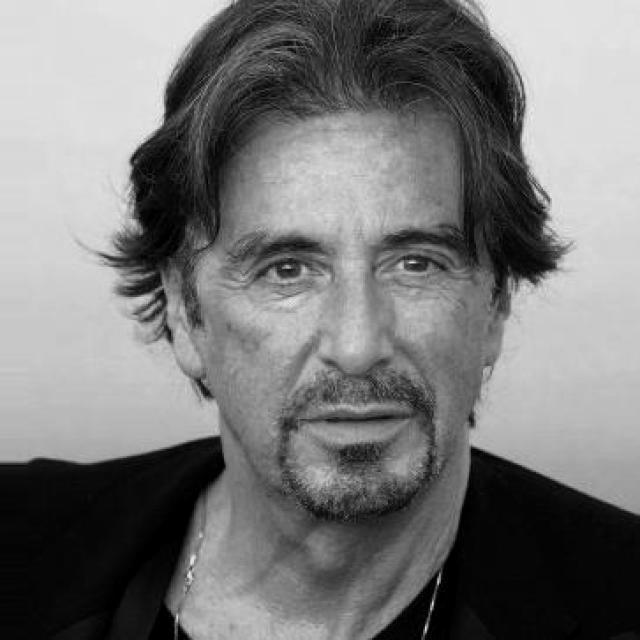real: (192, 110, 488, 526)
